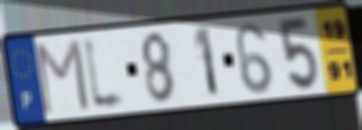1: (192, 23, 221, 102)
5: (274, 13, 323, 93)
6: (233, 20, 276, 97)
8: (140, 29, 178, 106)
L: (80, 32, 132, 115)
M: (34, 37, 92, 118)
